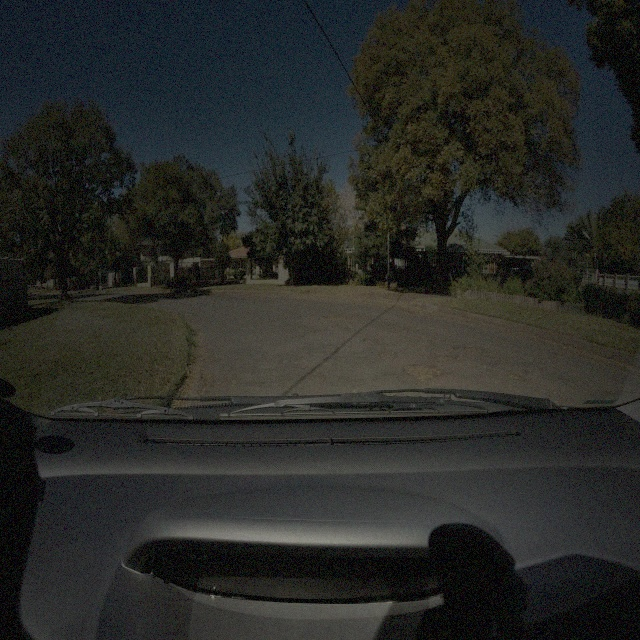pothole: (402, 362, 444, 381), (458, 344, 482, 360), (319, 314, 350, 323), (436, 351, 456, 364), (379, 348, 396, 359), (364, 336, 376, 346)
